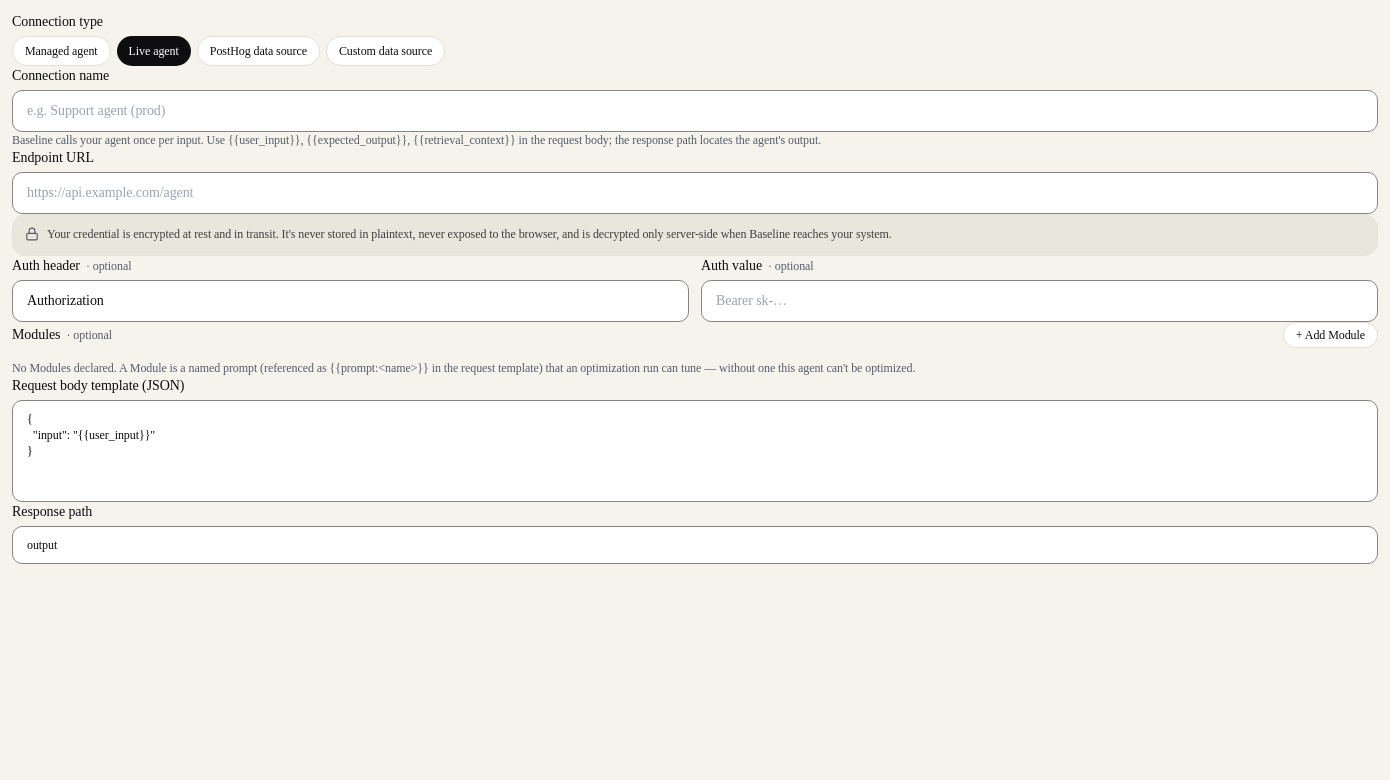
it: ConnectionFields — managed agent fields › renders prompt + target model and omits the connection-name field
The width and height of the screenshot is (1390, 780).
What coordinates should you click on to do the following:
click the button "Managed agent"
I would click on:
 (61, 51)
Its box is [12,36,111,66].
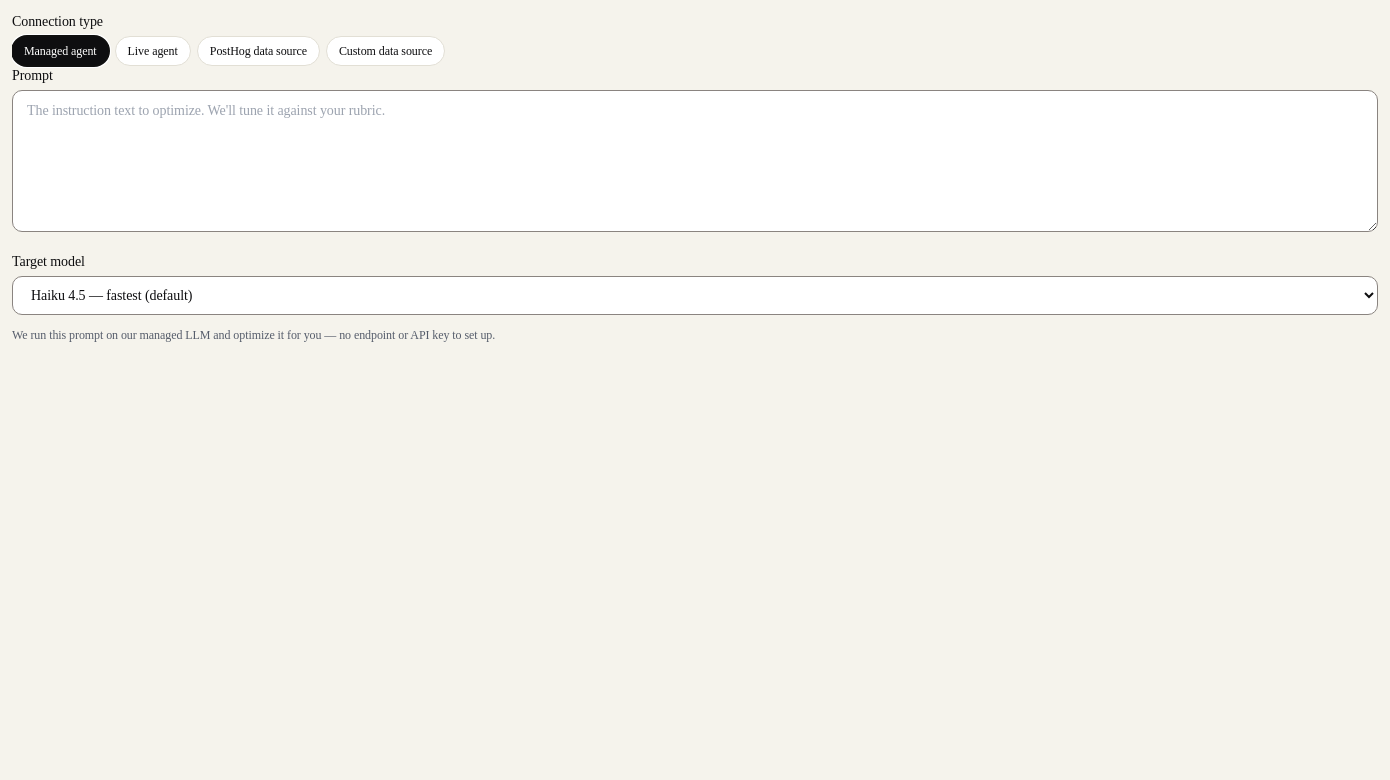
Check: the label labelled "Connection name" is gone
Check: the text box labelled "Prompt" is shown, box [12,90,1378,232]
Check: the dropdown labelled "Target model" is shown, box [12,276,1378,315]
